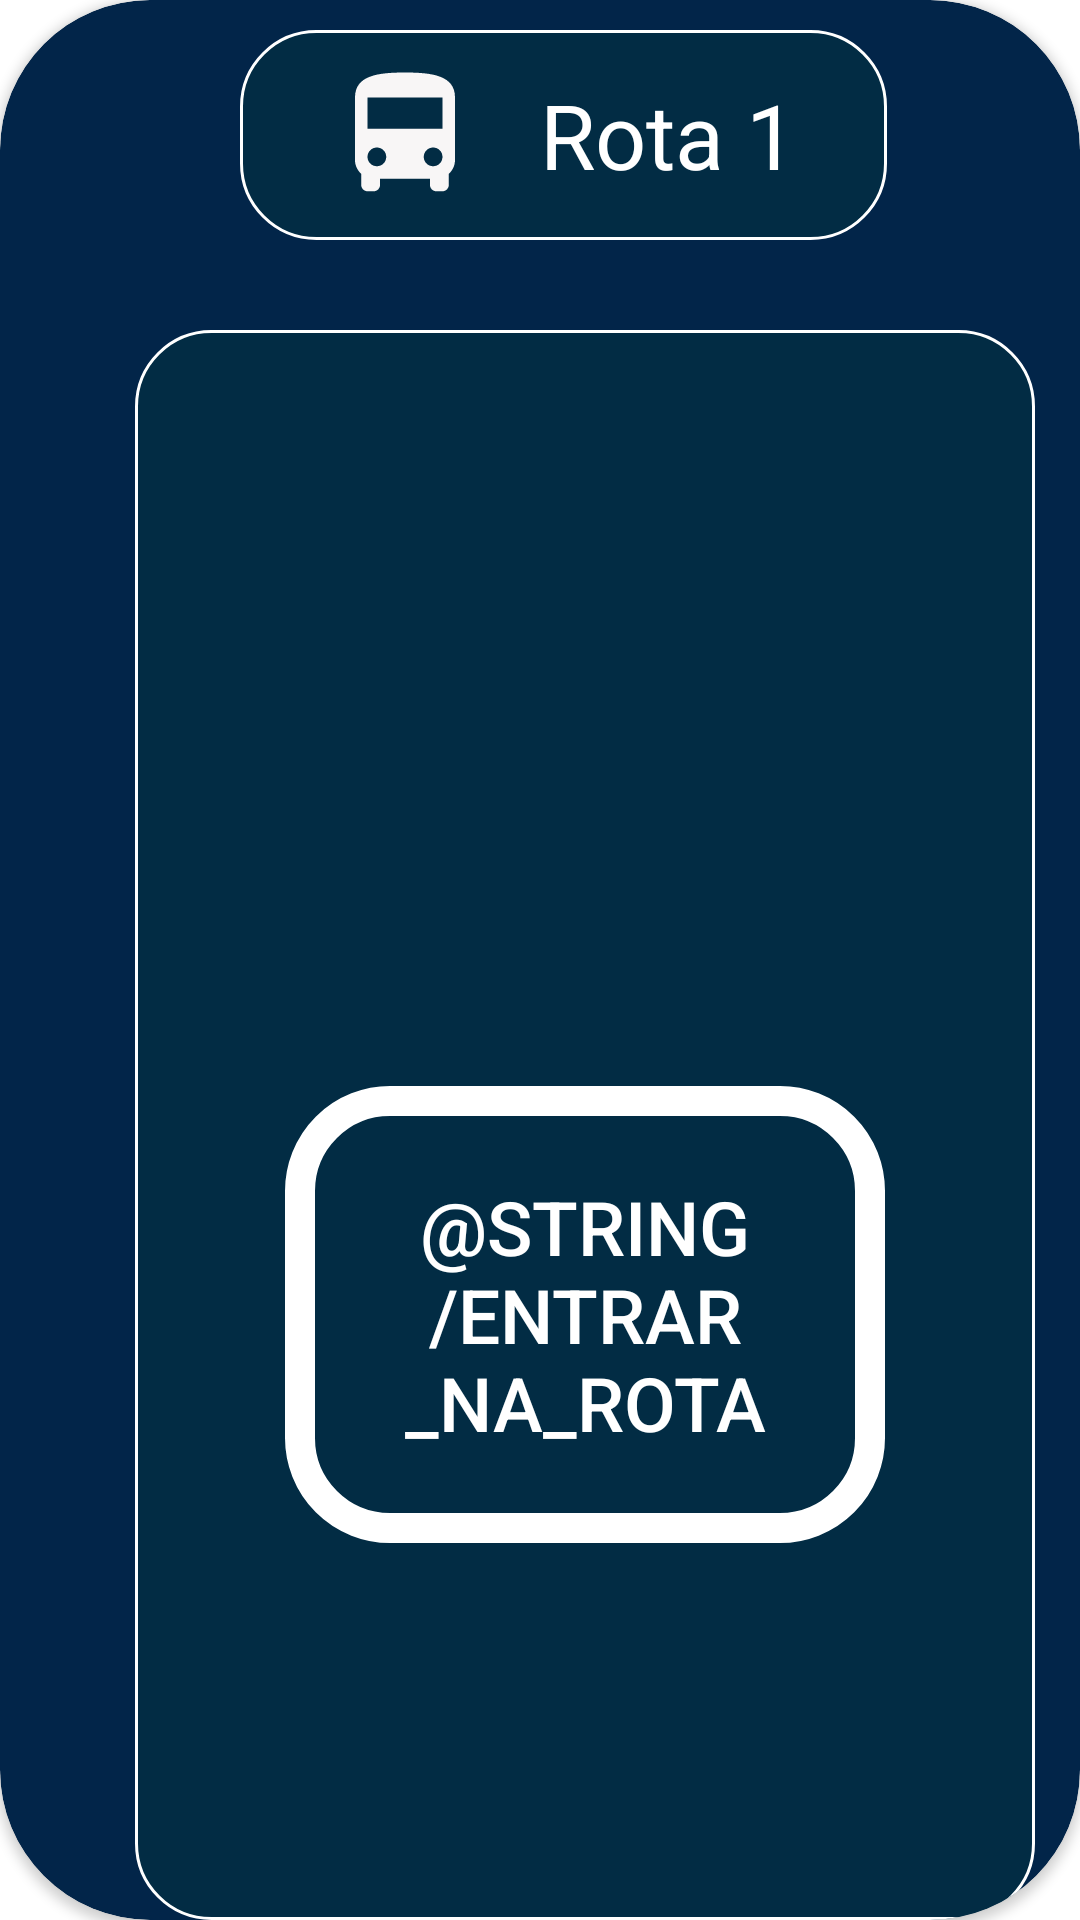

Where icons sit on this 1080 × 1920 app screen, as box(x1, y1, x2, y2):
bus: box(355, 72, 455, 192)
